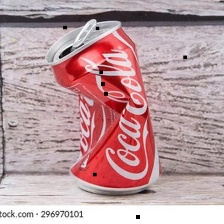can: (44, 16, 160, 197)
